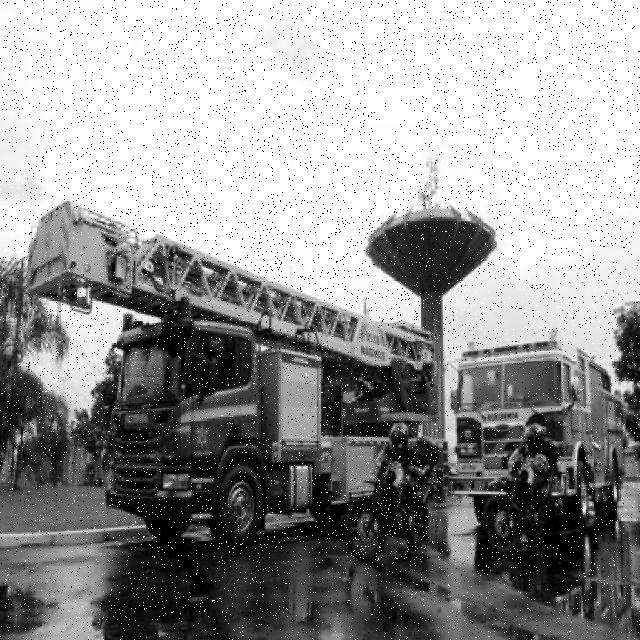Fire Truck: (24, 200, 439, 548)
Motorbike: (347, 423, 443, 560)
